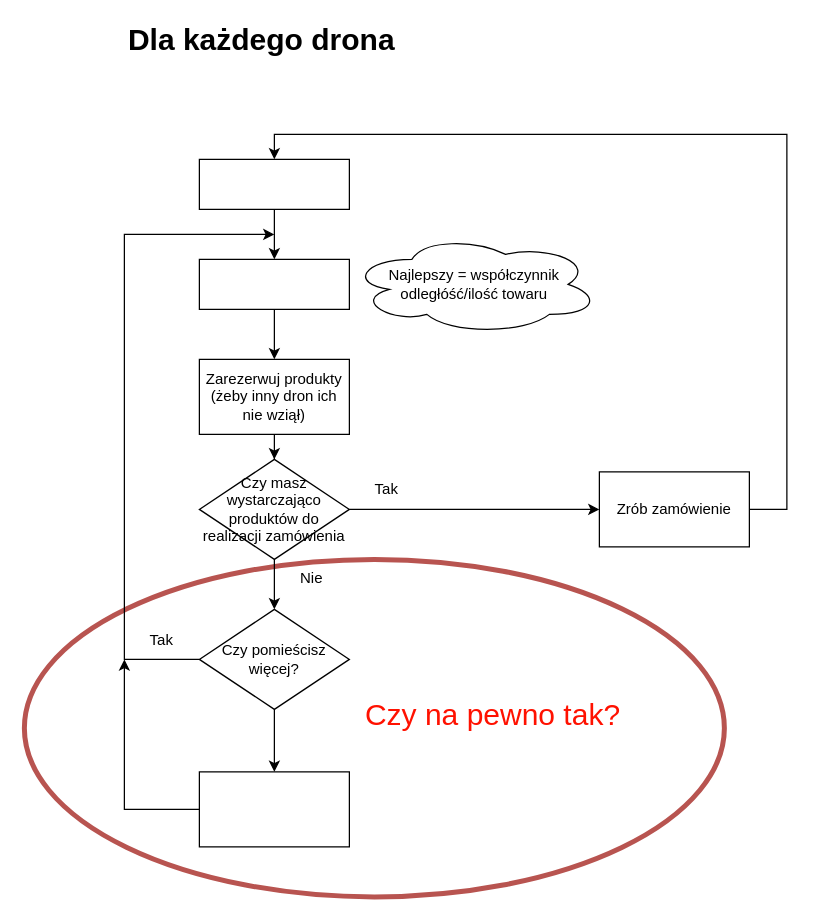
Image size: 819x920. Some labels were removed from this diagram. Each missing label, with the centre of its shape:
"Leć do klienta" goes at (x=273, y=809).
"Wybierz najlepszy magazyn" goes at (x=273, y=283).
"Wybierz następne zlecenie" goes at (x=273, y=183).
